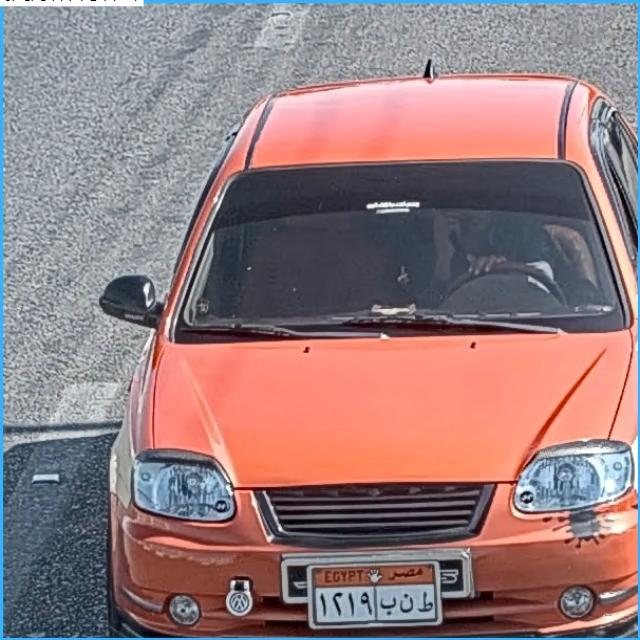windshield: (168, 166, 634, 334)
